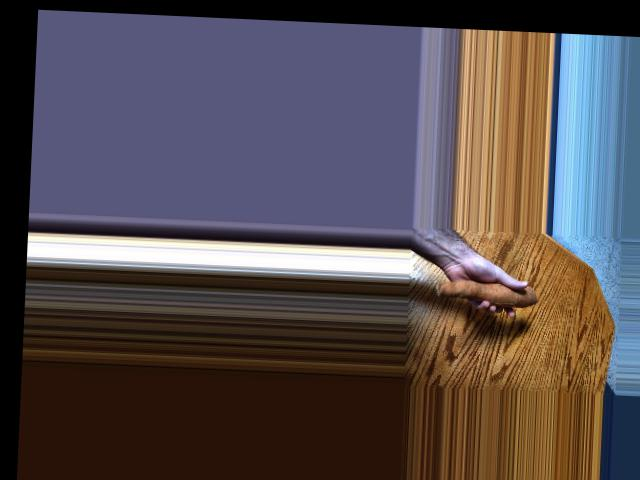sweet_potato: (431, 266, 547, 311)
